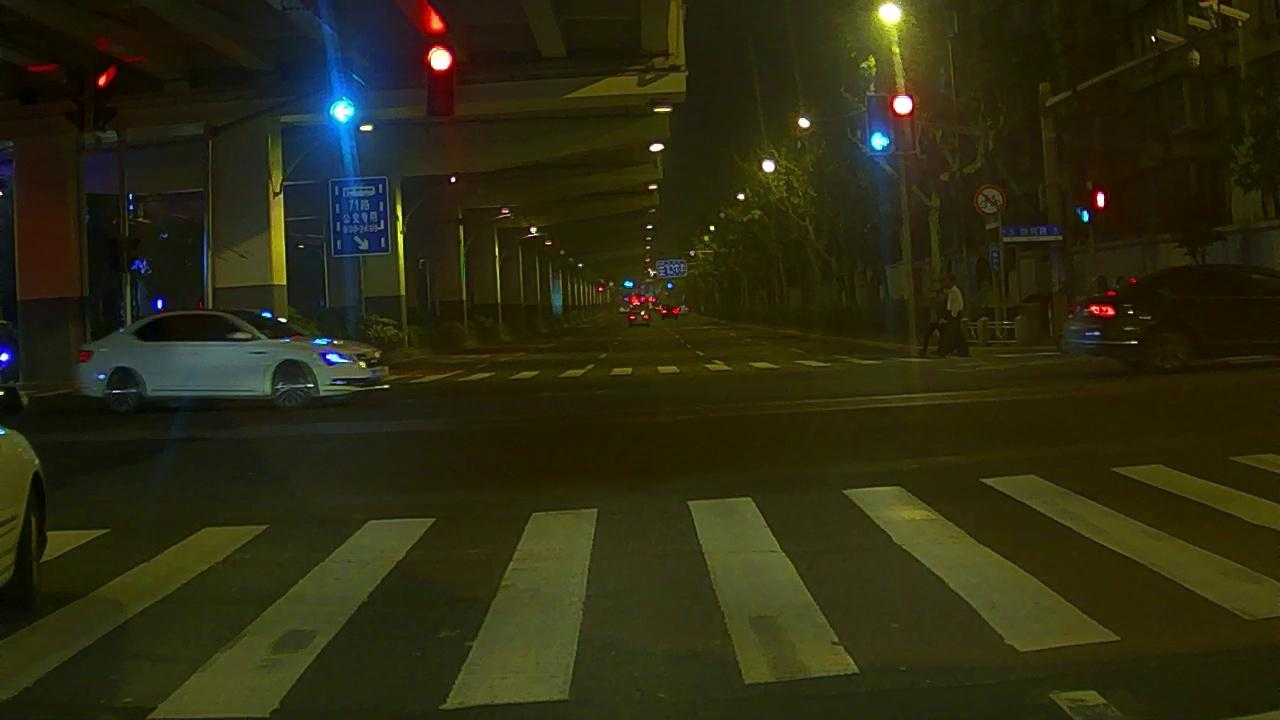traffic_light: (428, 47, 452, 113), (893, 96, 914, 153), (869, 94, 889, 153), (332, 102, 355, 121)
